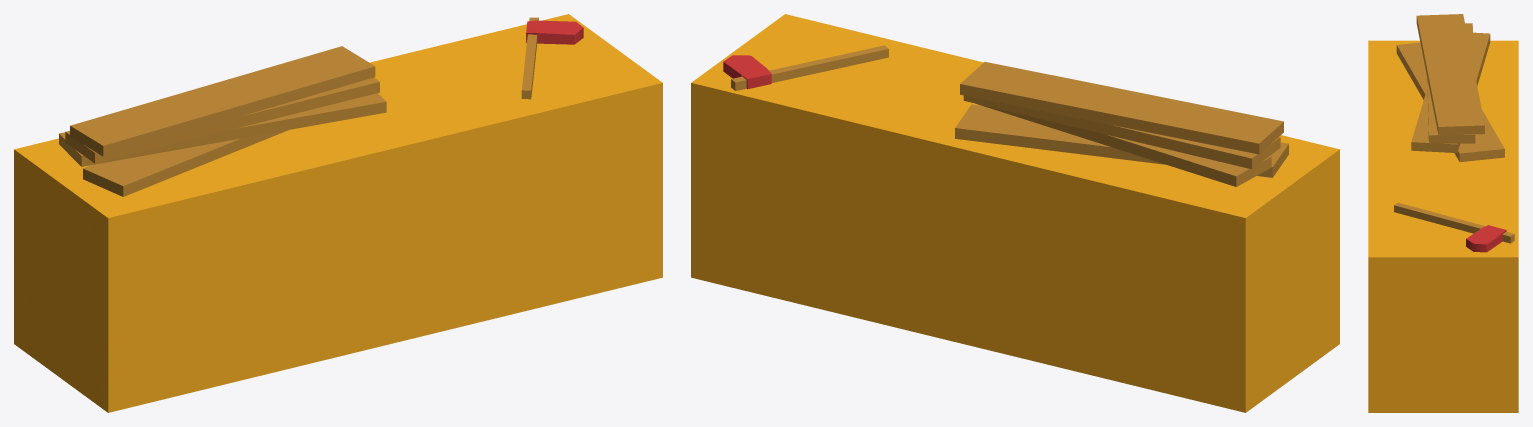
File: Table_Up_3.fbx
The picture shows the model from 3 angles, left to right: view 1: azimuth 30°, elevation 25°; view 2: azimuth 150°, elevation 25°; view 3: azimuth 270°, elevation 25°; orthographic projection. The views are drawn at different scales.
Visible parts, largest first — view 1: Table_3; view 2: Table_3; view 3: Table_3.
Part boxes in pixels (x1=…): Table_3: x1=14, y1=14, x2=662, y2=412; Table_3: x1=691, y1=14, x2=1339, y2=412; Table_3: x1=1368, y1=14, x2=1518, y2=412.
Bounding box in the file's own units: 3.4 × 1.4 × 1.
Materials: 1 (1 with a texture image).
